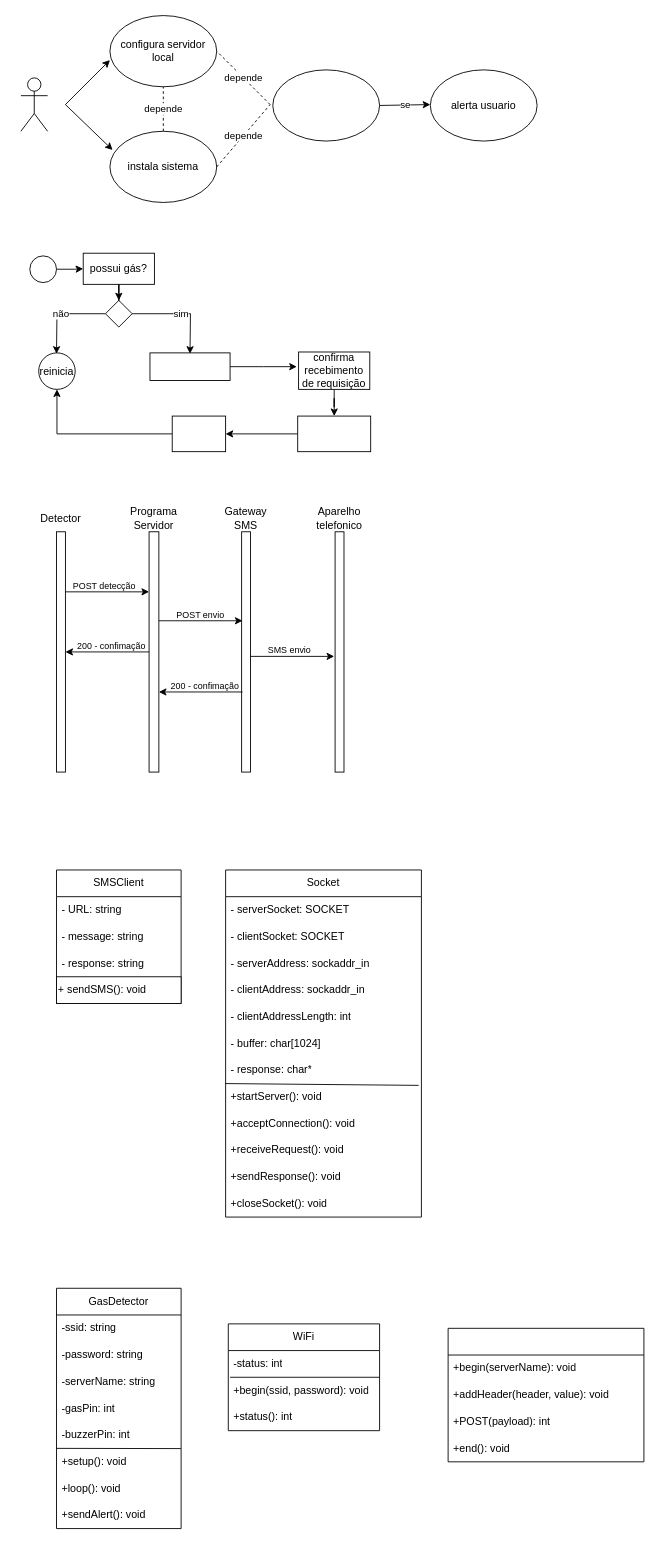
Some shapes in this 659 by 1544 pixel diagram are drawn without their labels. The box of each missing label's shape, as (x1, y1, x2, y2) in pixels:
aguarda cheiro de gás: (272, 69, 380, 141)
envia requisição ao servidor: (149, 352, 230, 380)
envia sms: (171, 415, 226, 452)
HTTPClient: (447, 1327, 644, 1462)
usuário: (20, 77, 48, 131)
utiliza gateway para sms: (297, 415, 371, 452)
